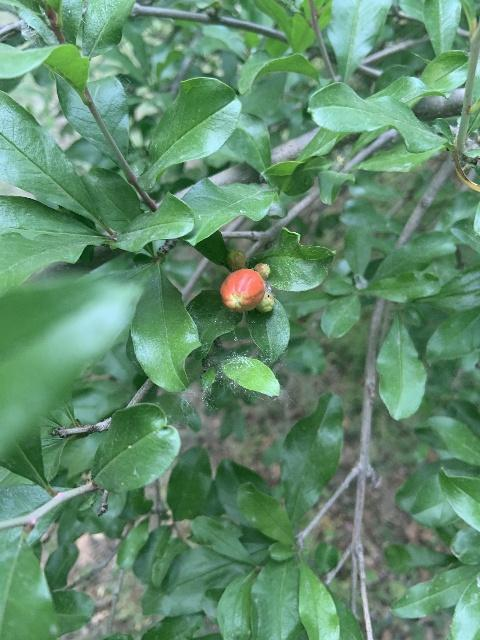bud: (219, 267, 265, 312), (226, 249, 246, 270), (253, 291, 273, 311), (253, 262, 270, 278)
